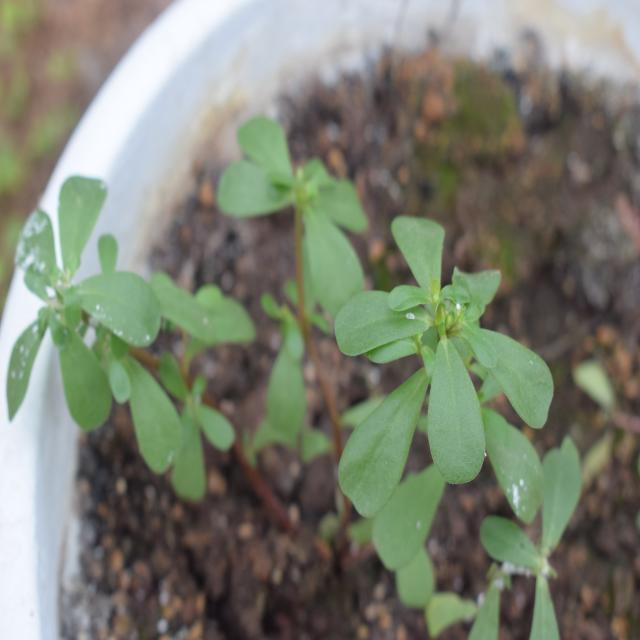purslane: (309, 208, 579, 584), (7, 143, 317, 467)
